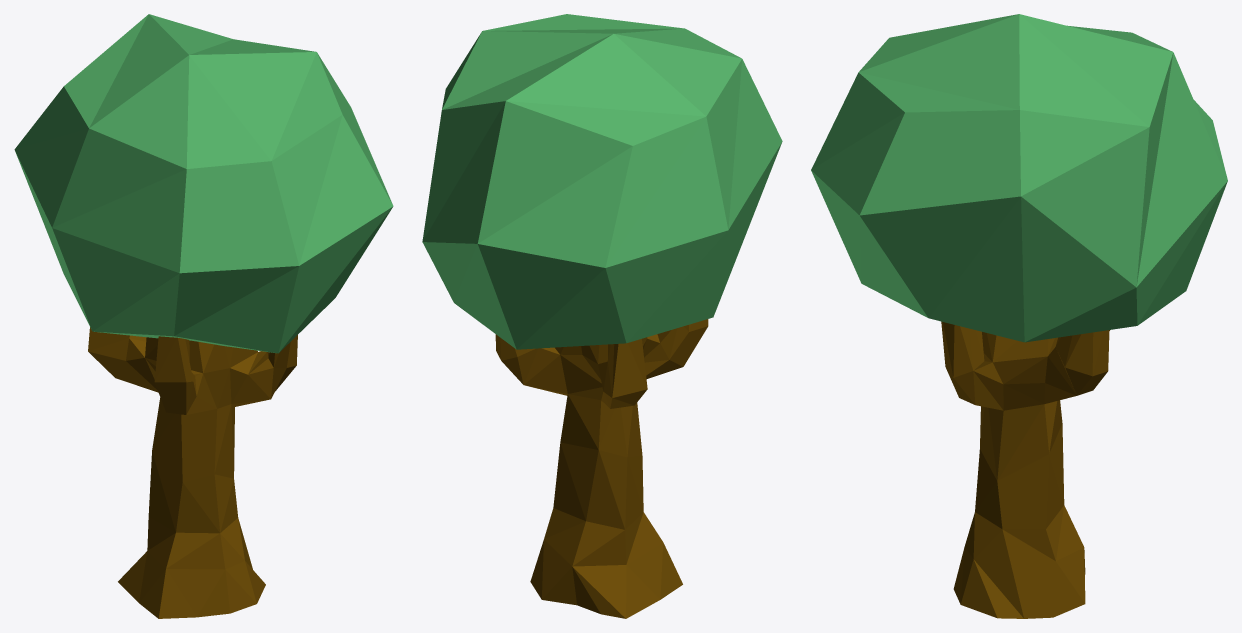
The model's file is FBX_tree.FBX.
The picture shows the model from 3 angles, left to right: view 1: azimuth 30°, elevation 25°; view 2: azimuth 150°, elevation 25°; view 3: azimuth 270°, elevation 25°; orthographic projection. The views are drawn at different scales.
Parts seen in each view (by area): view 1: tree; view 2: tree; view 3: tree.
Boxes of the visible parts, <box> form: tree: <box>14,14,393,618</box>; tree: <box>422,14,782,618</box>; tree: <box>811,14,1227,618</box>.
Bounding box in the file's own units: 522 × 936 × 620.
